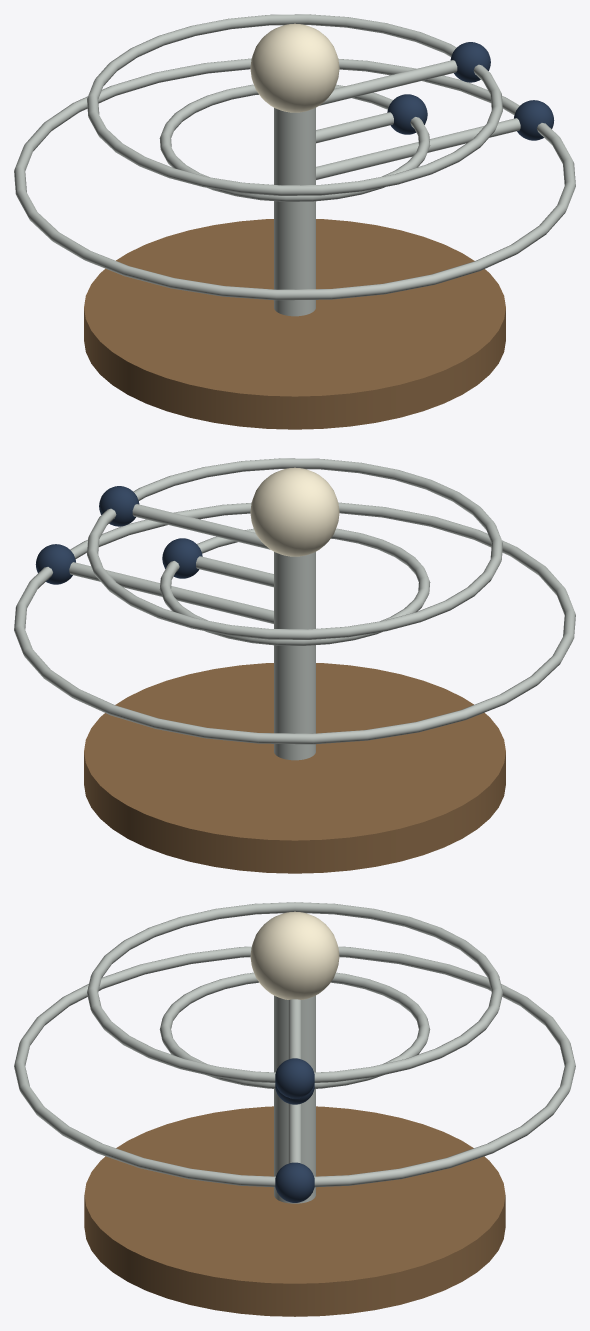
Rendered from planetarium-and-optical-observatory-orbital-demonstrat-56ddb8bc__31840.glb.
The picture shows the model from 3 angles, top to bottom: view 1: azimuth 30°, elevation 25°; view 2: azimuth 150°, elevation 25°; view 3: azimuth 270°, elevation 25°; orthographic projection.
Visible parts, largest first — view 1: orbital-demonstration-model; view 2: orbital-demonstration-model; view 3: orbital-demonstration-model.
Boxes of the visible parts, box(x1,y1,x2,y2) form: orbital-demonstration-model: box(14, 14, 575, 429); orbital-demonstration-model: box(14, 458, 575, 873); orbital-demonstration-model: box(14, 902, 575, 1316).
Size of the model in its own units: 0.712 by 0.425 by 0.694.
